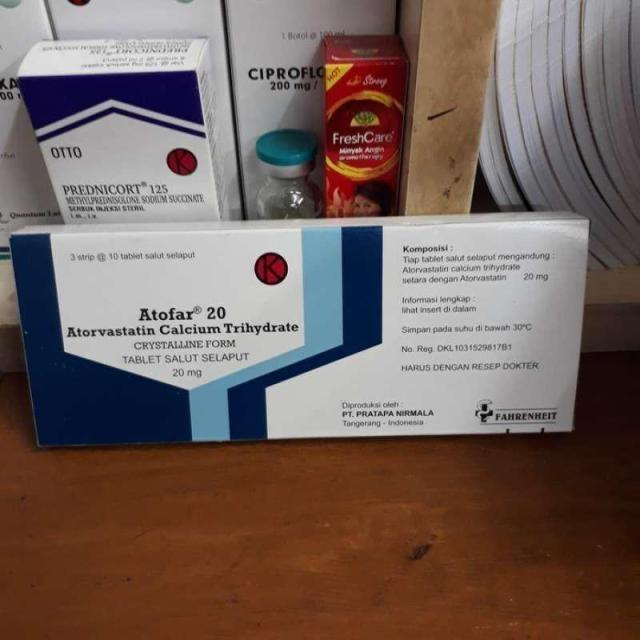drug-name: (132, 306, 228, 320)
